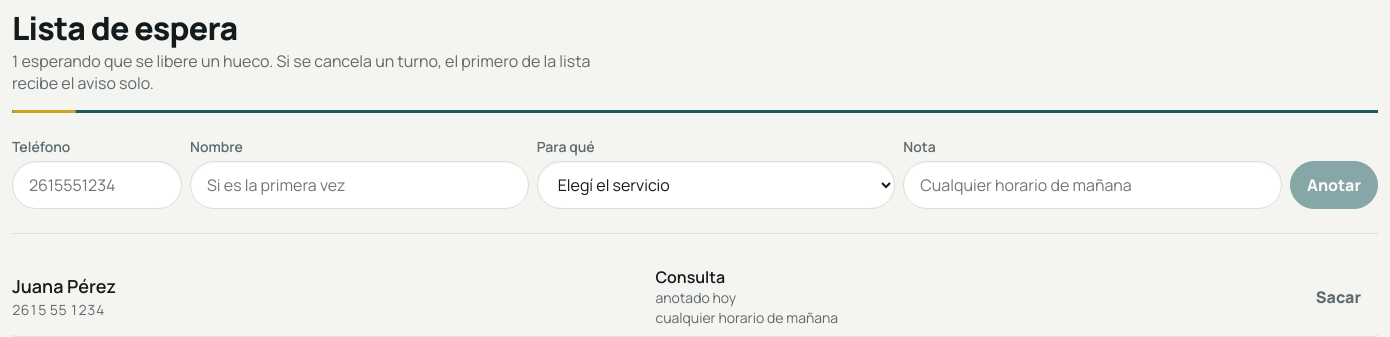
Test: lista de espera › sacar pide confirmar antes de borrar, en el lugar
(page scrolled)
What coordinates should you click on to do the following:
click the button "Sacar"
I would click on:
 (1338, 297)
Its box is [1299,273,1378,321].
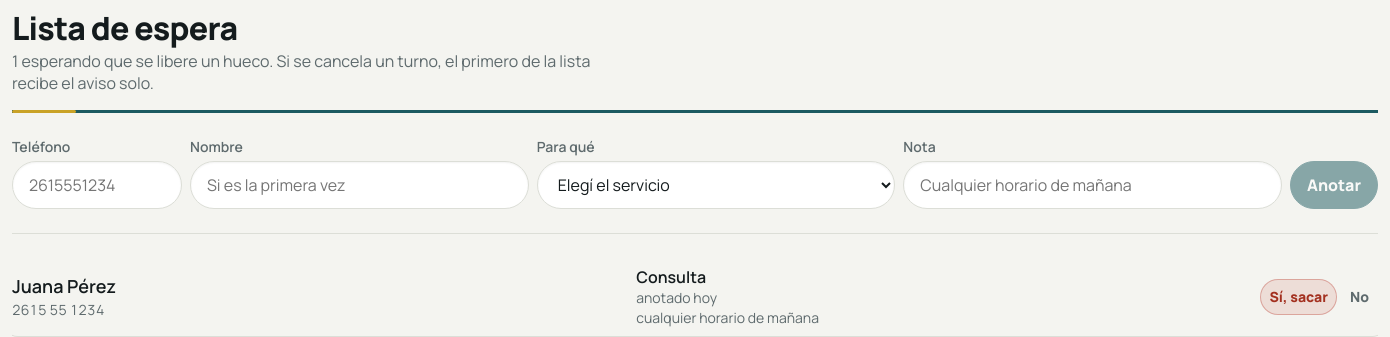
What coordinates should you click on to do the following:
click the button "Sí, sacar"
I would click on:
 (1299, 297)
Its box is [1260,279,1337,315].
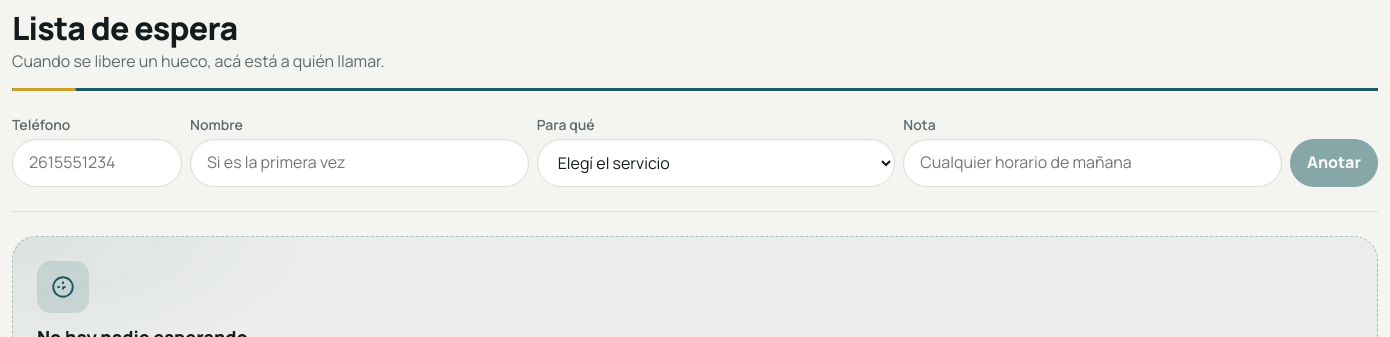
Check: the text "Juana Pérez" is gone
